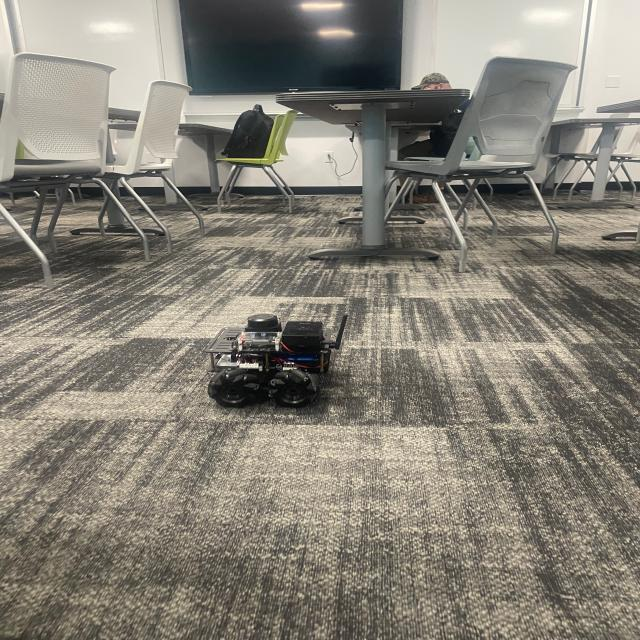ArduinoCar3: (195, 310, 363, 409)
